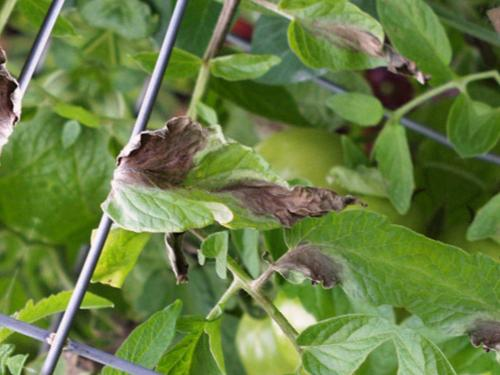Tomato leaf late blight: (92, 95, 373, 312), (255, 160, 441, 338), (257, 0, 455, 122)
